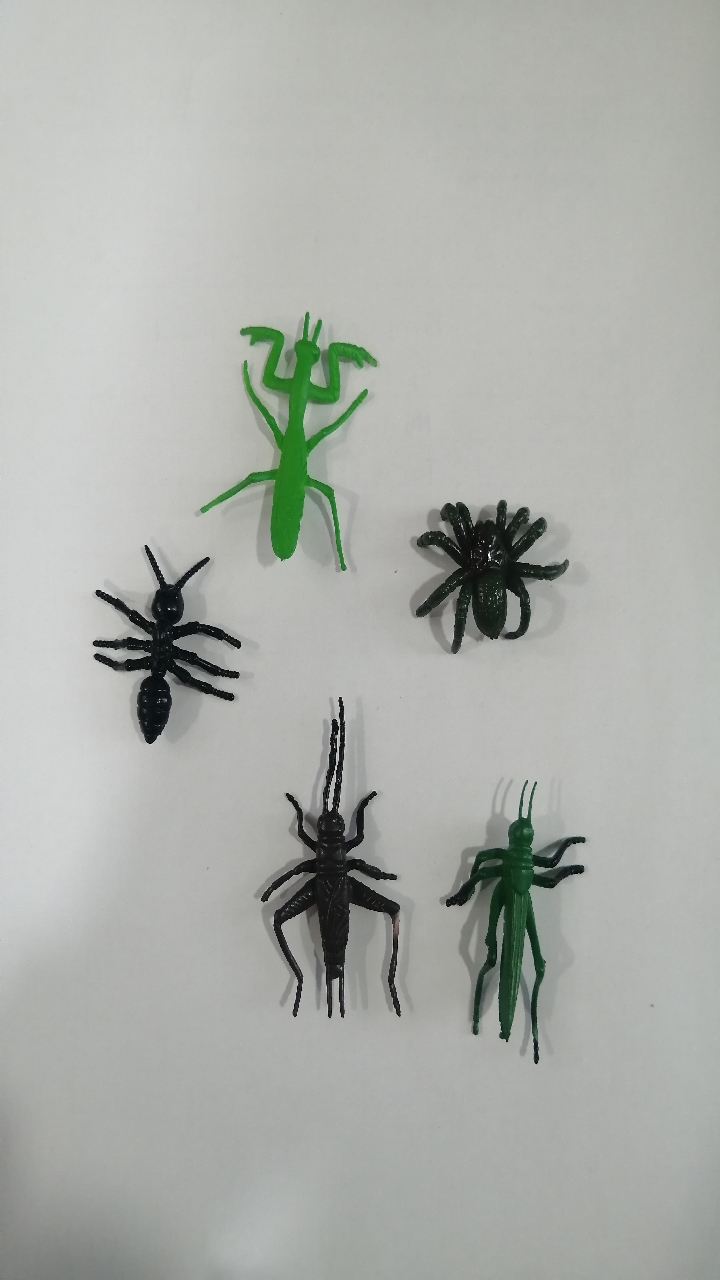intruso: (169, 297, 398, 622), (423, 731, 624, 1094), (223, 671, 415, 1043), (55, 522, 254, 779), (386, 468, 580, 683)
